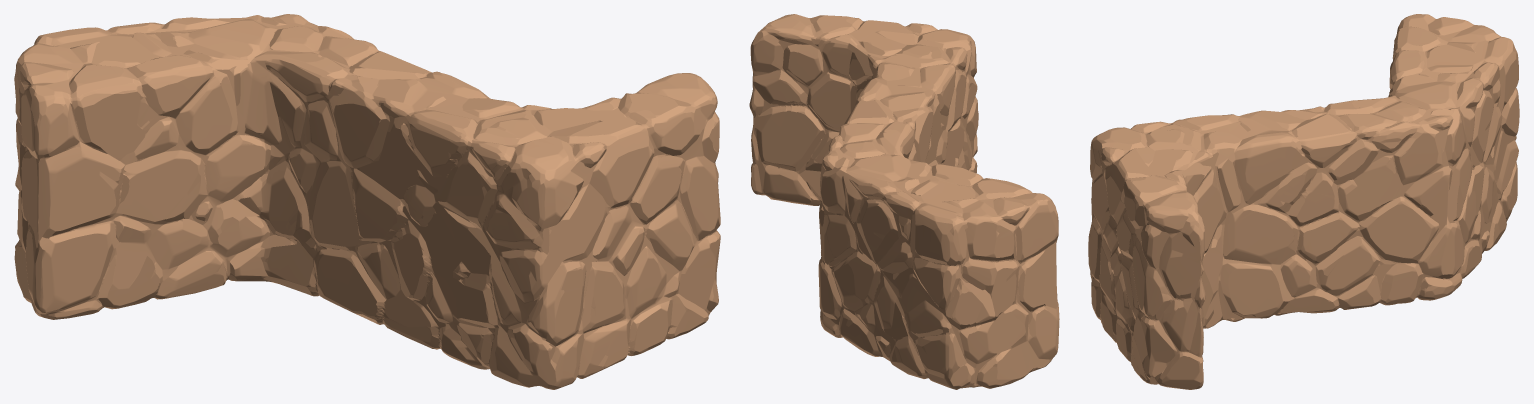
3 renders of one model, left to right at view 1: azimuth 30°, elevation 25°; view 2: azimuth 150°, elevation 25°; view 3: azimuth 270°, elevation 25°, orthographic. The views are drawn at different scales.
Parts seen in each view (by area): view 1: Mesh_2_LOD0; view 2: Mesh_2_LOD0; view 3: Mesh_2_LOD0.
Part boxes in pixels (x1,y1,x2,y2): Mesh_2_LOD0: (14,14,720,389); Mesh_2_LOD0: (749,14,1059,389); Mesh_2_LOD0: (1088,14,1519,389).
Size of what is drawn, in the model's own units: 8303 by 3429 by 7317.
